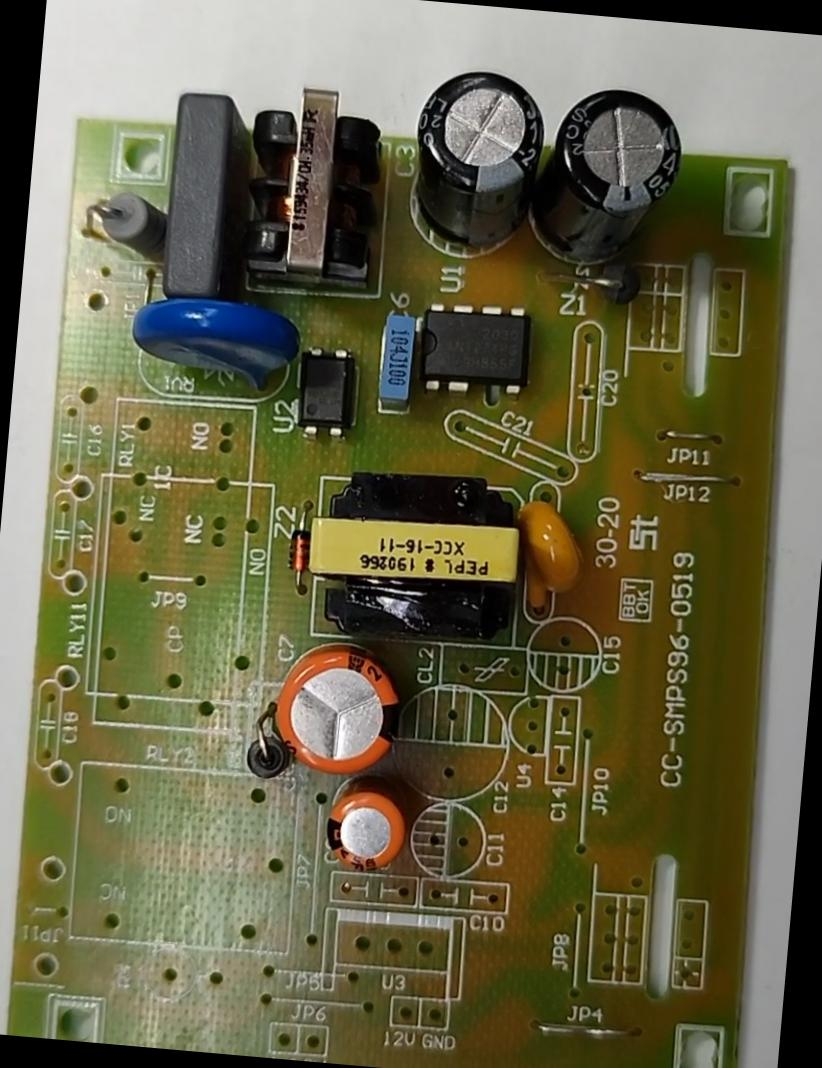Cap1: (262, 636, 410, 782)
Cap2: (303, 777, 413, 879)
Cap3: (388, 55, 548, 248)
Cap4: (544, 75, 697, 243)
MOSFET: (398, 284, 546, 411)
Mov: (118, 286, 300, 394)
Resistor: (76, 168, 158, 257)
Transformer: (293, 460, 530, 646), (230, 68, 392, 304)
